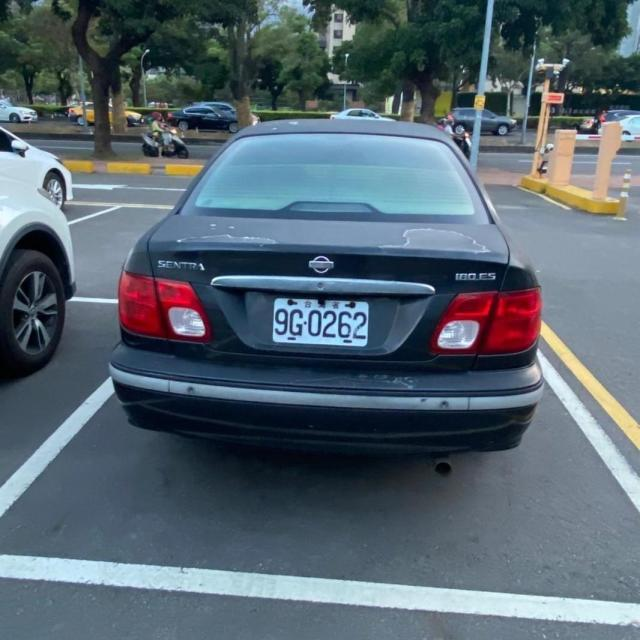W: (267, 289, 377, 352)
